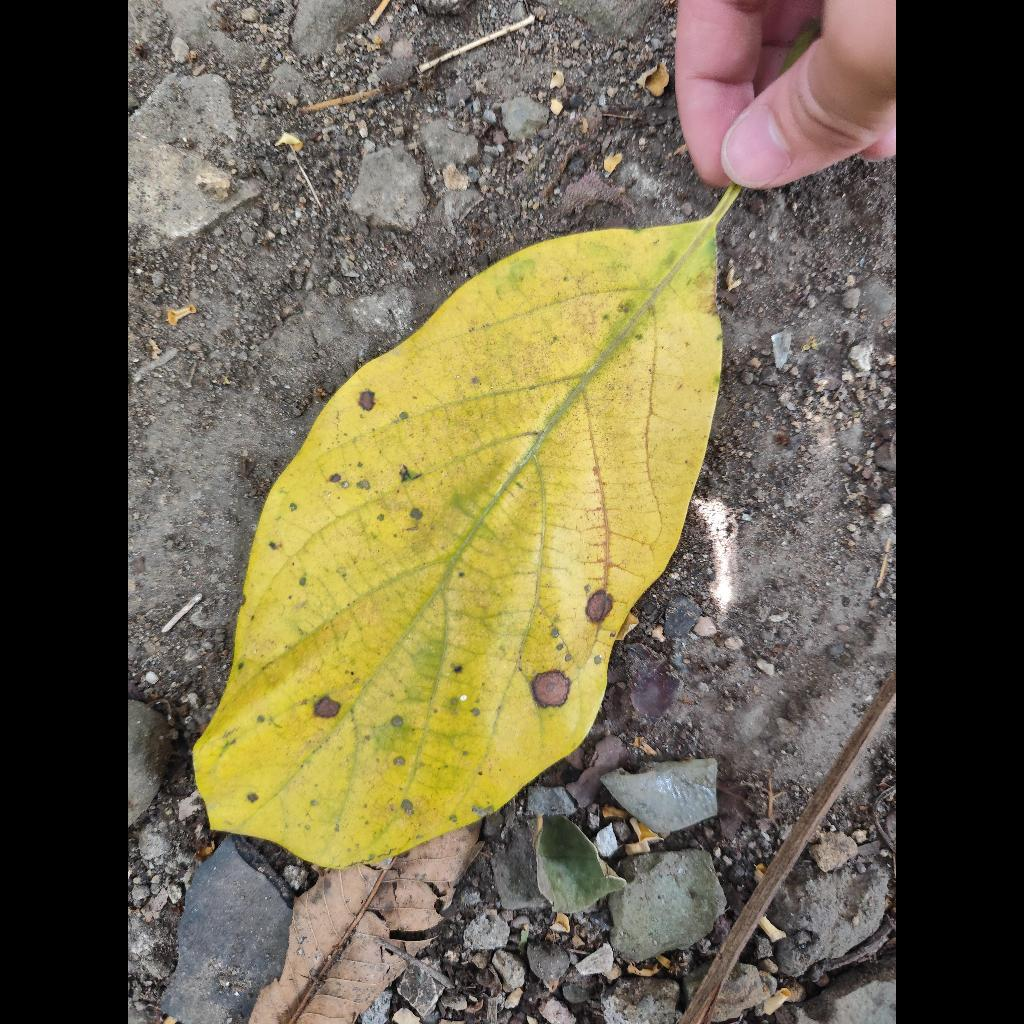nutrient_deficiency: (195, 190, 737, 868)
